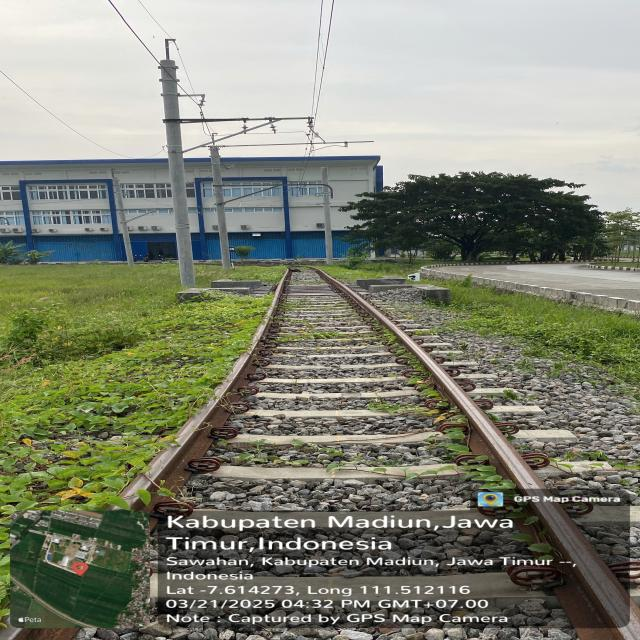rail-detection: (315, 270, 640, 640), (122, 270, 291, 511)
